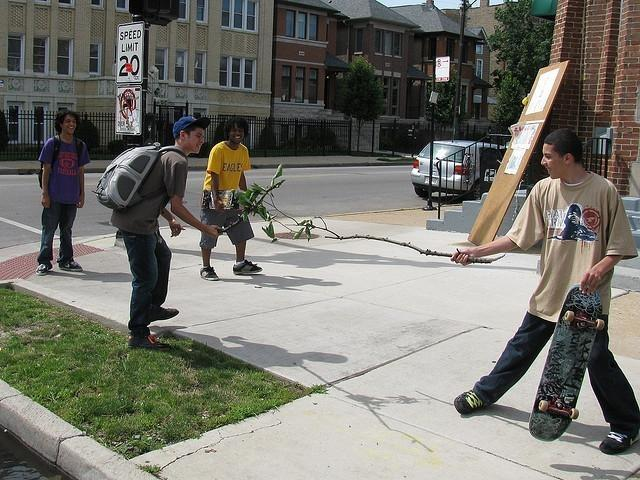car: (409, 139, 506, 199)
